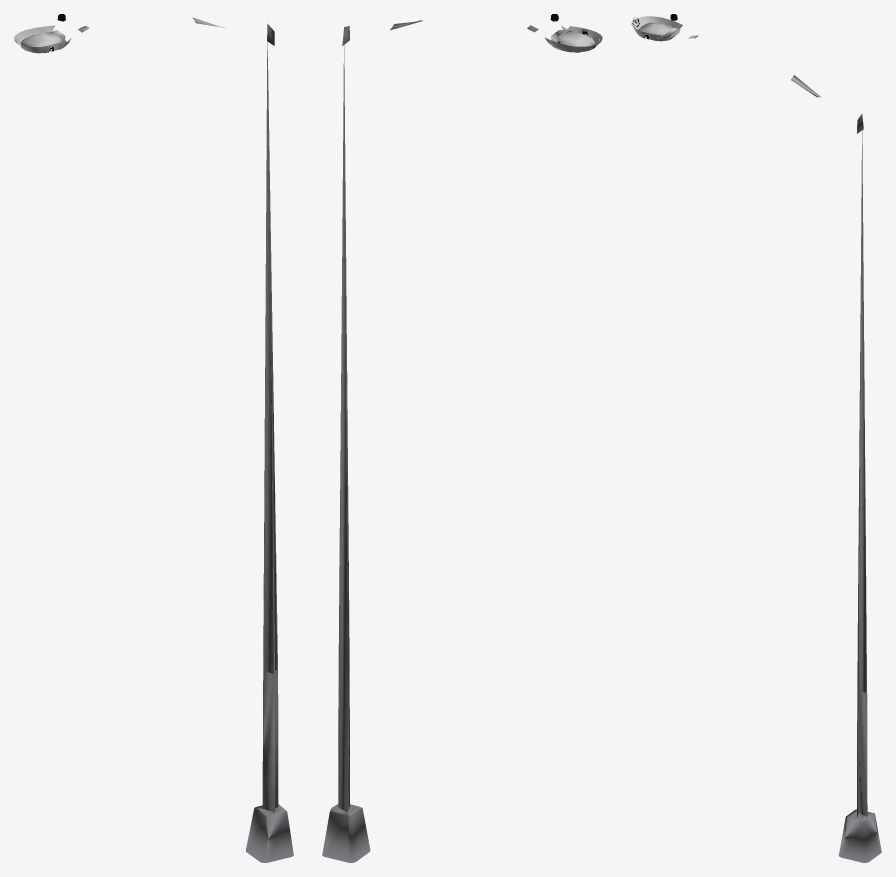
File: bridge_street_light.glb
The picture shows the model from 3 angles, left to right: view 1: azimuth 30°, elevation 25°; view 2: azimuth 150°, elevation 25°; view 3: azimuth 330°, elevation 25°; orthographic projection. The views are drawn at different scales.
Size of the model in its own units: 132 by 415 by 18.43.
10 materials, 10 textured.
